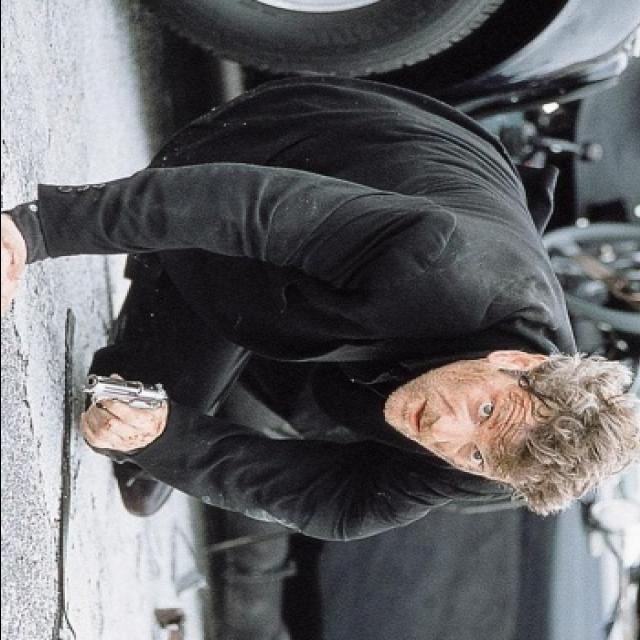weapons: (72, 341, 182, 463)
